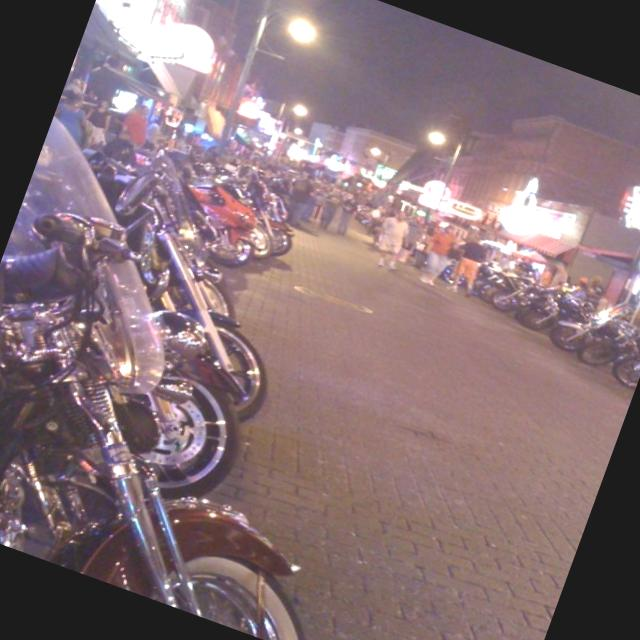Vehicle: (0, 115, 453, 640), (34, 202, 306, 516), (59, 162, 324, 428), (110, 140, 284, 323), (168, 172, 289, 278), (198, 155, 314, 261), (512, 260, 607, 352), (544, 294, 626, 366), (572, 303, 640, 383), (478, 253, 554, 324), (605, 306, 640, 393)
